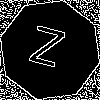Z: (25, 25, 67, 77)
